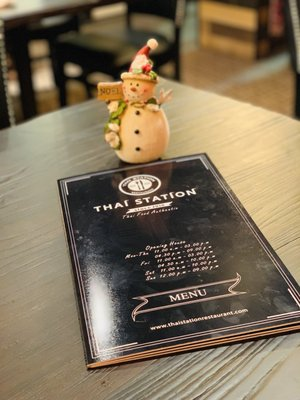curry: (0, 58, 299, 400)
